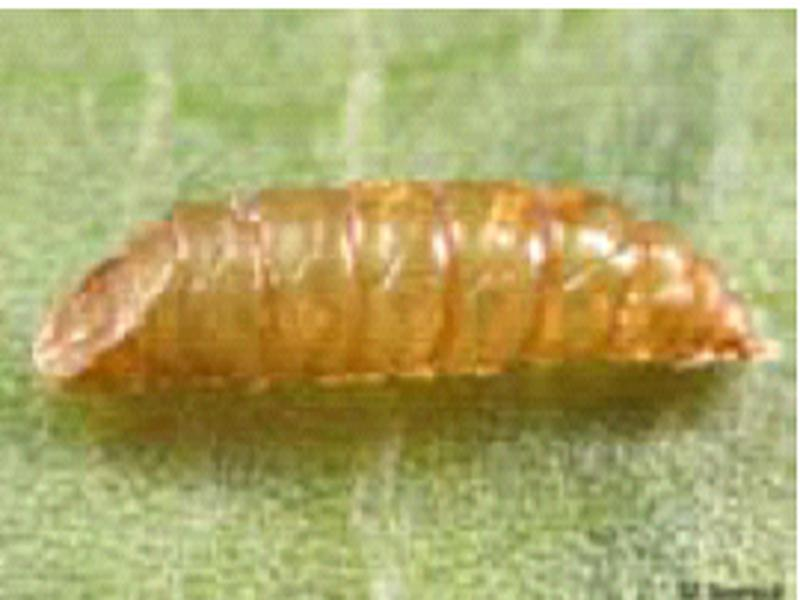Whorl_maggot: (29, 167, 754, 428)
